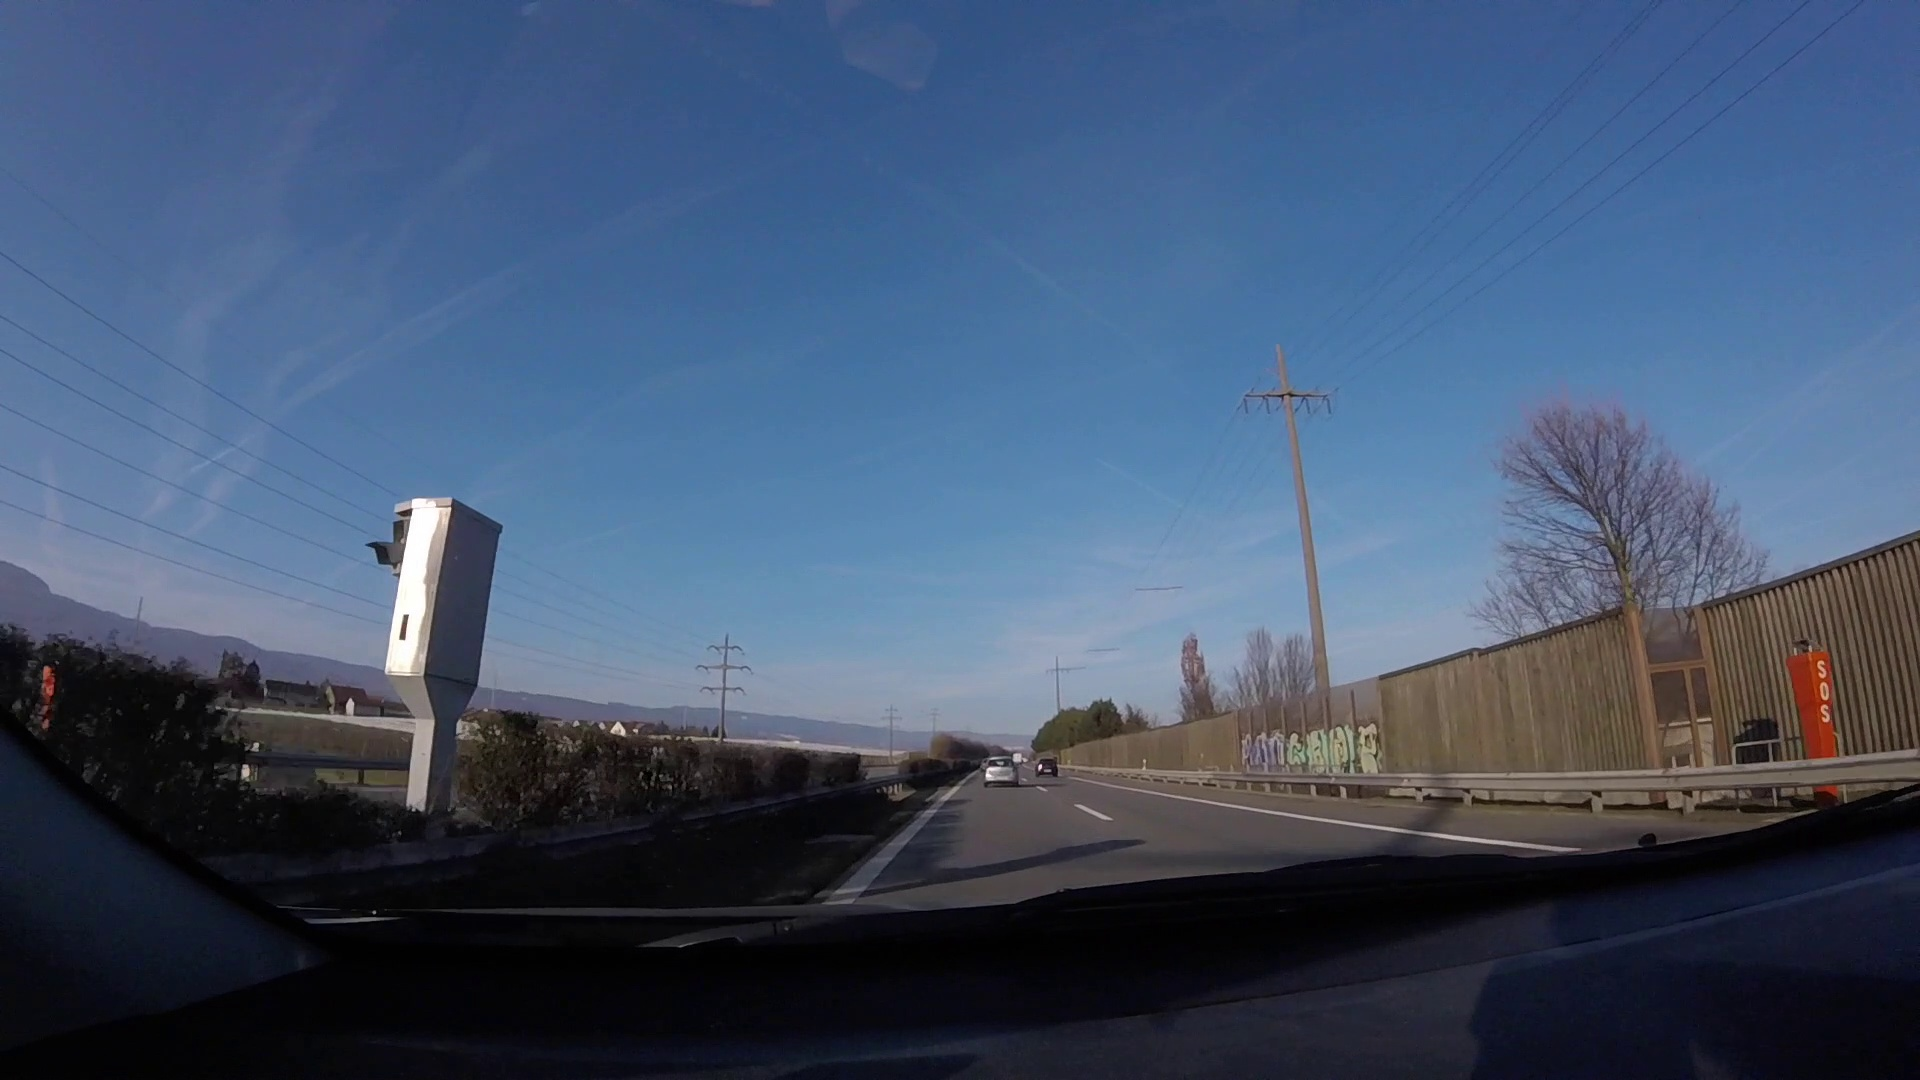radar: (365, 495, 508, 825)
